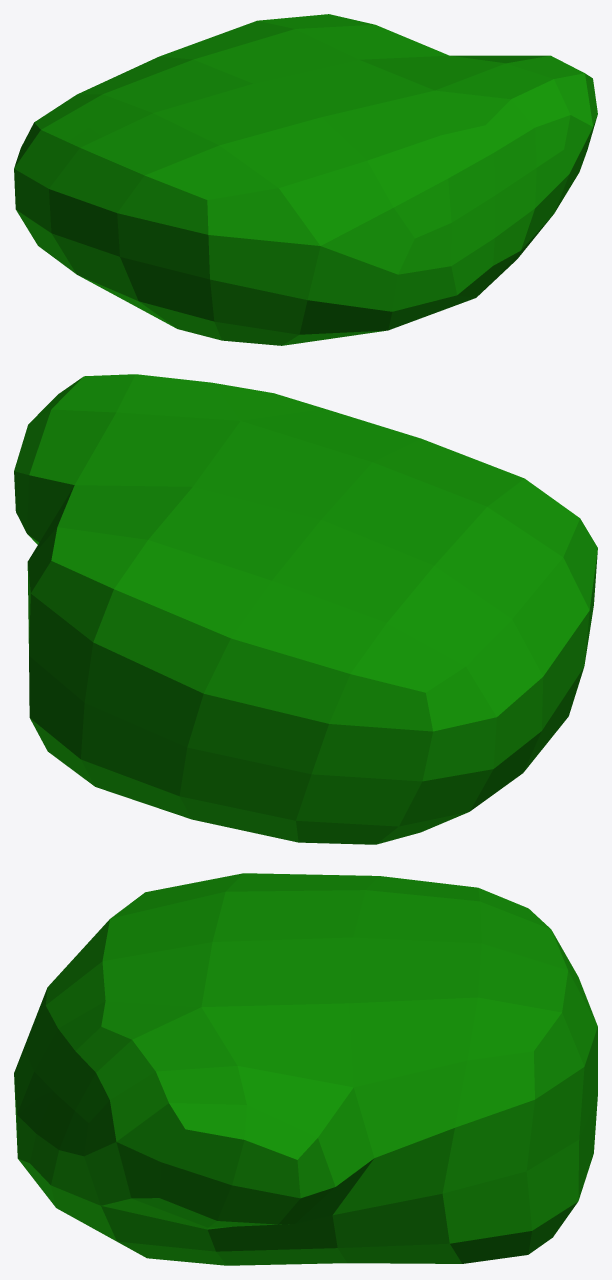
File: Bush.glb
The picture shows the model from 3 angles, top to bottom: view 1: azimuth 30°, elevation 25°; view 2: azimuth 150°, elevation 25°; view 3: azimuth 270°, elevation 25°; orthographic projection. The views are drawn at different scales.
Visible parts, largest first — view 1: Cube.001; view 2: Cube.001; view 3: Cube.001.
Boxes of the visible parts, left/top/right/bottom form: Cube.001: left=14, top=14, right=597, bottom=345; Cube.001: left=14, top=374, right=597, bottom=844; Cube.001: left=14, top=873, right=597, bottom=1265.
Size of the model in its own units: 3.31 by 1.38 by 2.77.
